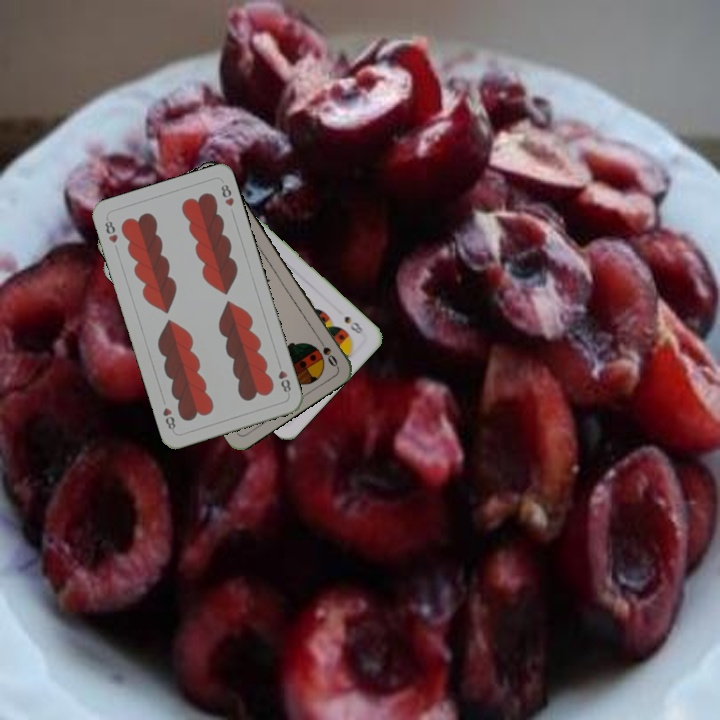H8: (274, 358, 294, 395), (101, 214, 120, 246)
S8: (340, 312, 366, 337)
SO: (313, 333, 340, 369)
